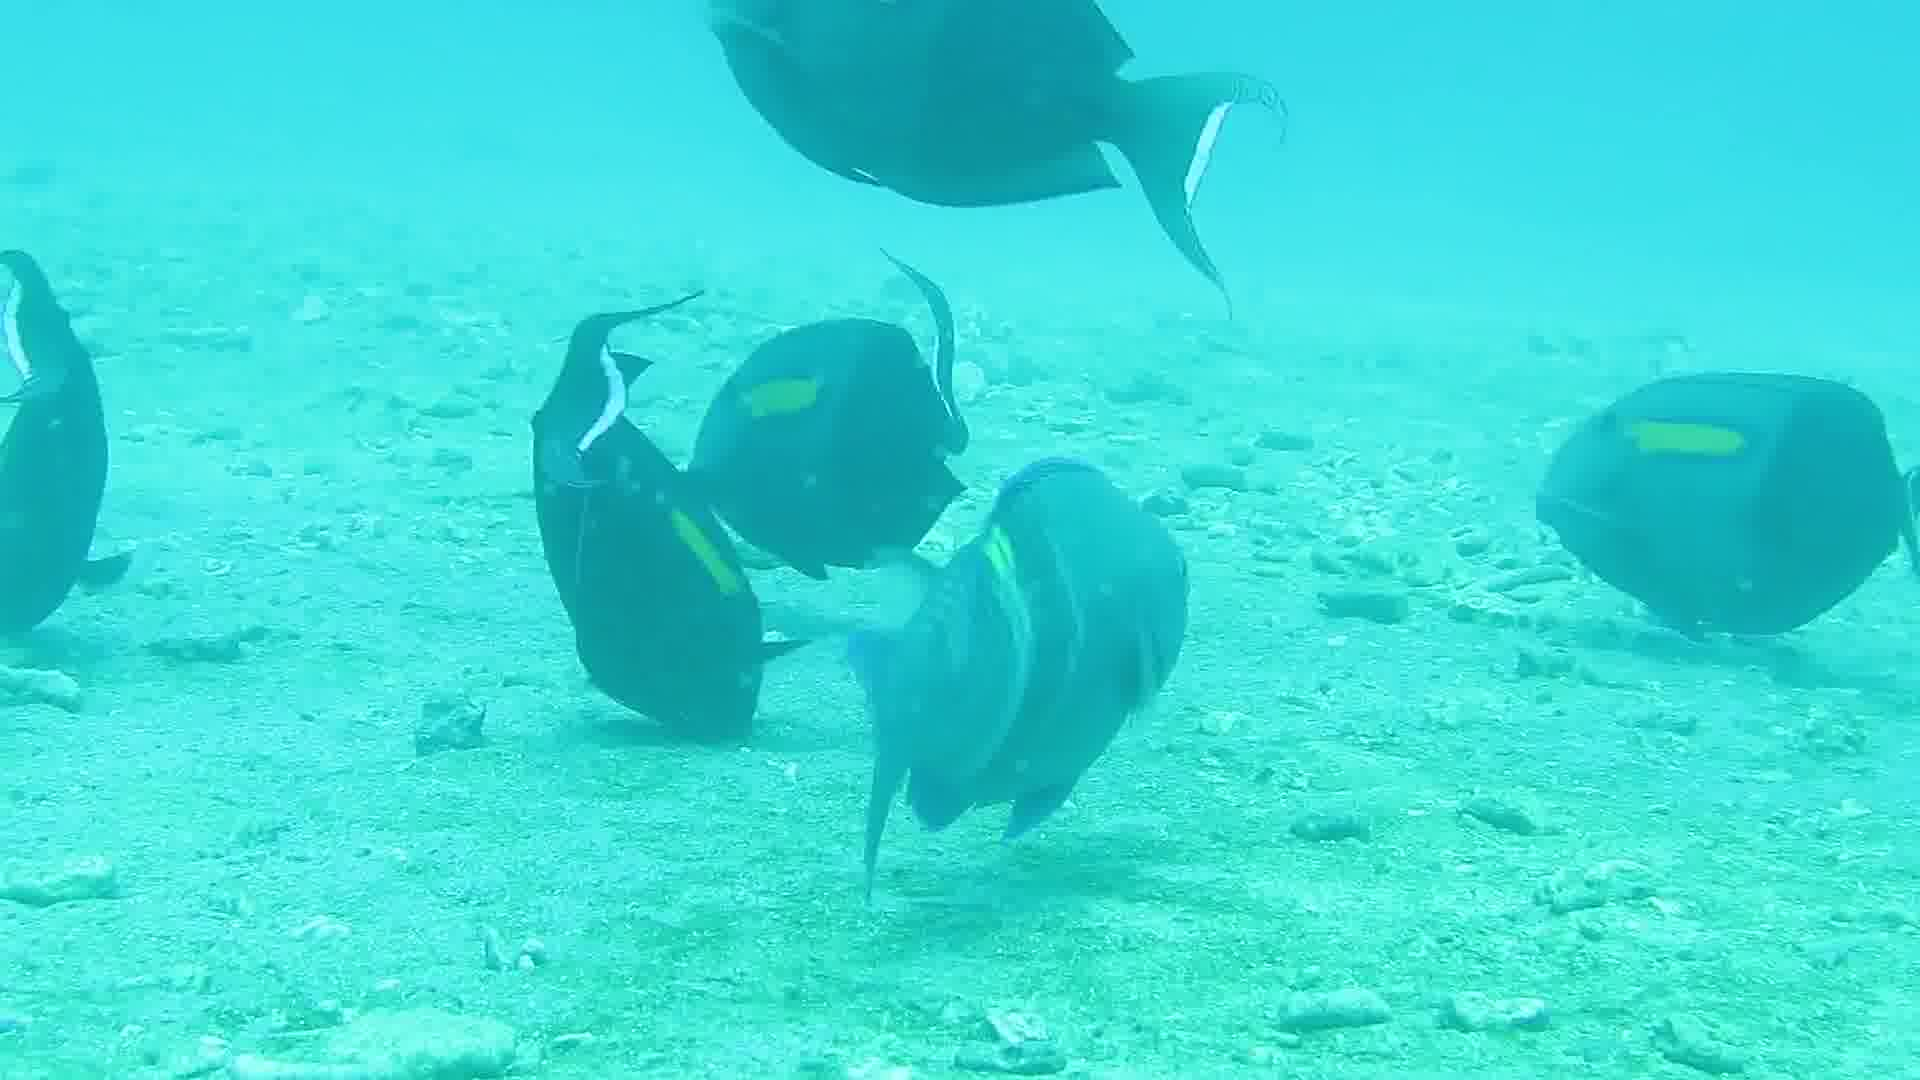Acanthurus olivaceus: (1555, 315, 1894, 705), (855, 465, 1193, 855), (709, 1, 1288, 227), (508, 332, 752, 811), (3, 171, 245, 651), (723, 222, 965, 574)
